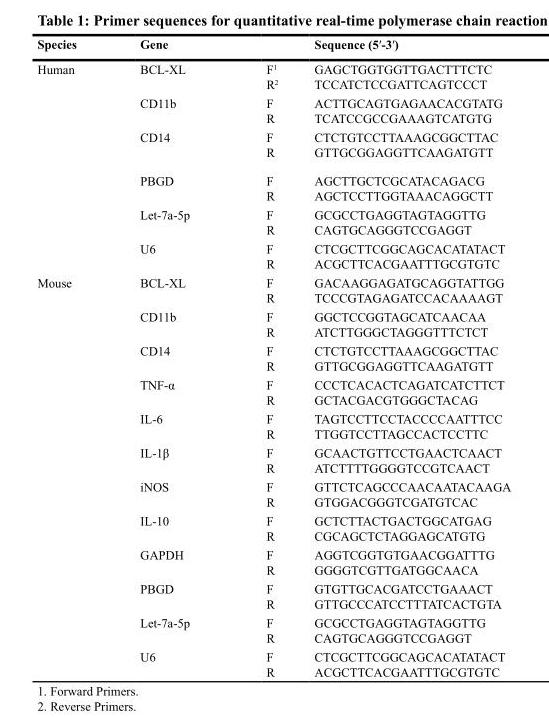table: (36, 36, 510, 678)
table column: (295, 36, 510, 678), (107, 36, 227, 678), (36, 36, 107, 678), (227, 36, 295, 678)
table column header: (36, 36, 510, 56)
table row: (36, 127, 510, 166), (36, 166, 510, 204), (36, 56, 510, 93), (36, 93, 510, 127), (36, 204, 510, 238), (36, 238, 510, 272), (36, 272, 510, 306), (36, 306, 510, 340), (36, 340, 510, 374), (36, 374, 510, 408), (36, 408, 510, 442), (36, 442, 510, 476), (36, 476, 510, 510), (36, 510, 510, 544), (36, 544, 510, 578), (36, 578, 510, 612), (36, 612, 510, 646), (36, 646, 510, 678), (36, 36, 510, 56)
table spanning cell: (36, 272, 107, 678), (36, 56, 107, 272)
